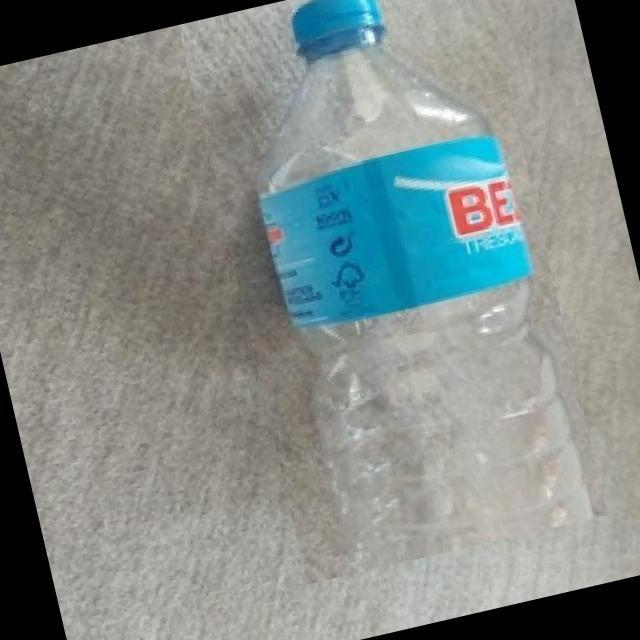good: (176, 0, 605, 584)
